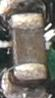Capacitor: (8, 11, 49, 83)
